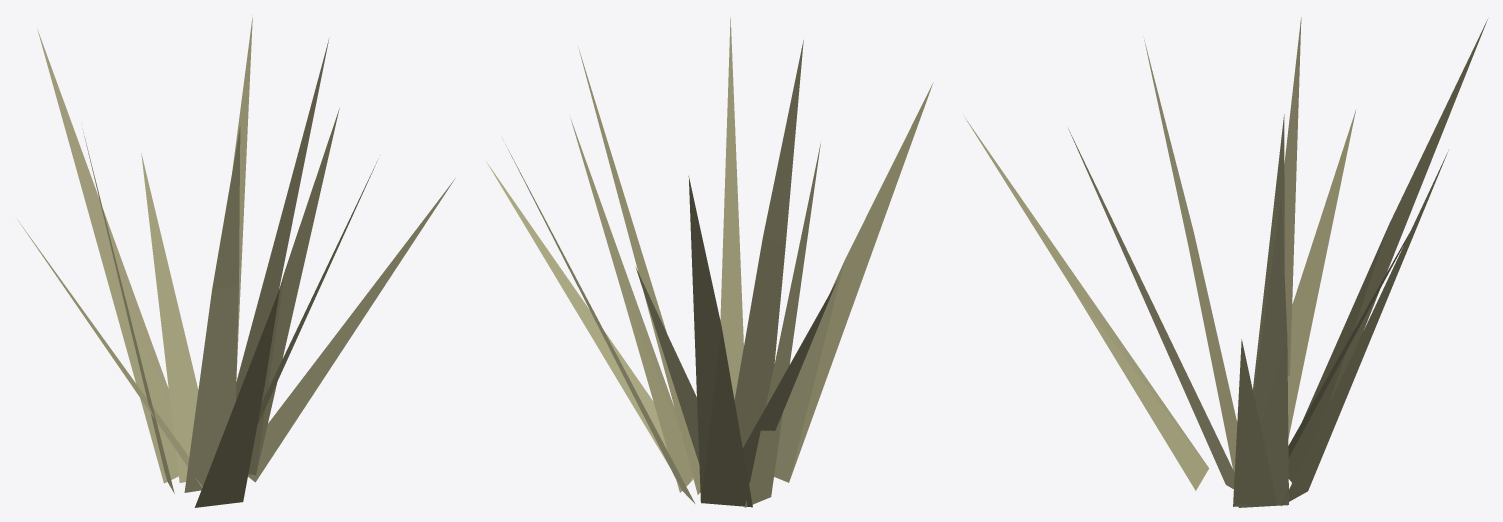
The model's file is grass_tuft_a_LOD1.fbx.
3 views of the same model, side by side, from view 1: azimuth 30°, elevation 25°; view 2: azimuth 150°, elevation 25°; view 3: azimuth 270°, elevation 25° (orthographic). The views are drawn at different scales.
Parts seen in each view (by area): view 1: grass_tuft_a_LOD1; view 2: grass_tuft_a_LOD1; view 3: grass_tuft_a_LOD1.
Part boxes in pixels (bbox=[...]): grass_tuft_a_LOD1: bbox=[18, 14, 455, 507]; grass_tuft_a_LOD1: bbox=[486, 17, 933, 507]; grass_tuft_a_LOD1: bbox=[964, 17, 1487, 507].
Bounding box in the file's own units: 91.75 × 91.06 × 97.4.
